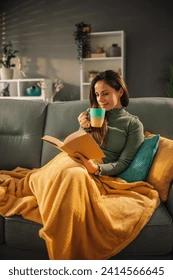blanket: (0, 148, 161, 260)
